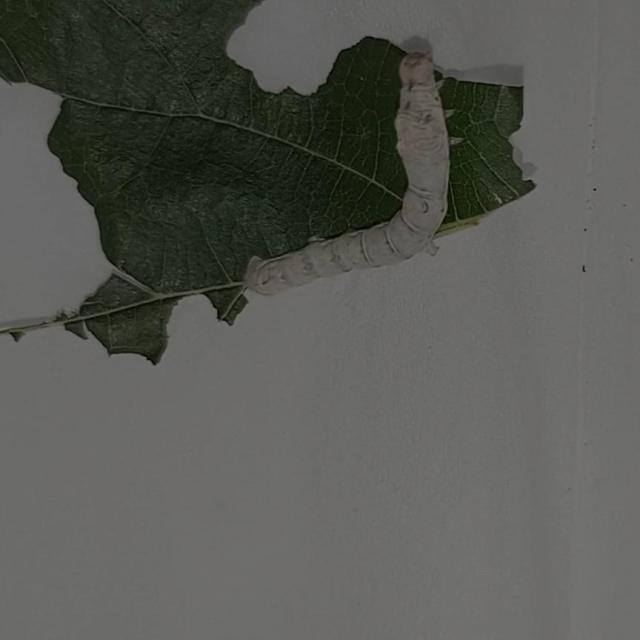Healthy: (228, 27, 475, 315)
